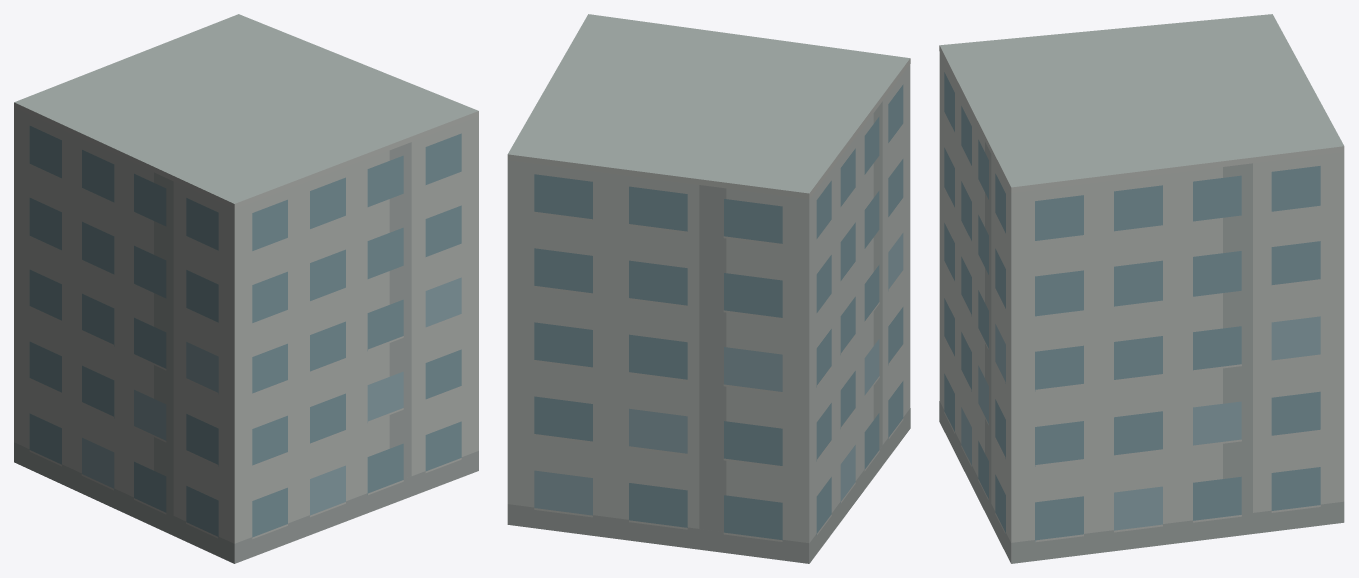
The model's file is survey-upis-32599708.glb.
3 views of the same model, side by side, from view 1: azimuth 30°, elevation 25°; view 2: azimuth 150°, elevation 25°; view 3: azimuth 270°, elevation 25° (orthographic). The views are drawn at different scales.
Parts seen in each view (by area): view 1: survey-upis-32599708.tmp; view 2: survey-upis-32599708.tmp; view 3: survey-upis-32599708.tmp.
Boxes of the visible parts, x1=… form: survey-upis-32599708.tmp: x1=14, y1=14, x2=478, y2=563; survey-upis-32599708.tmp: x1=507, y1=14, x2=910, y2=563; survey-upis-32599708.tmp: x1=939, y1=14, x2=1344, y2=563.
Bounding box in the file's own units: 15.62 × 15.8 × 15.41.
